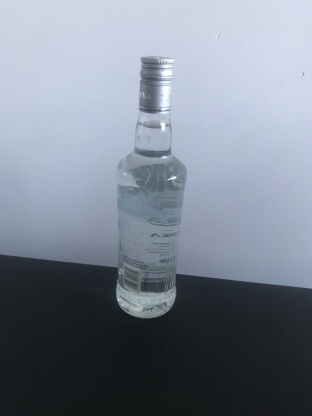nakretka: (137, 54, 174, 114)
